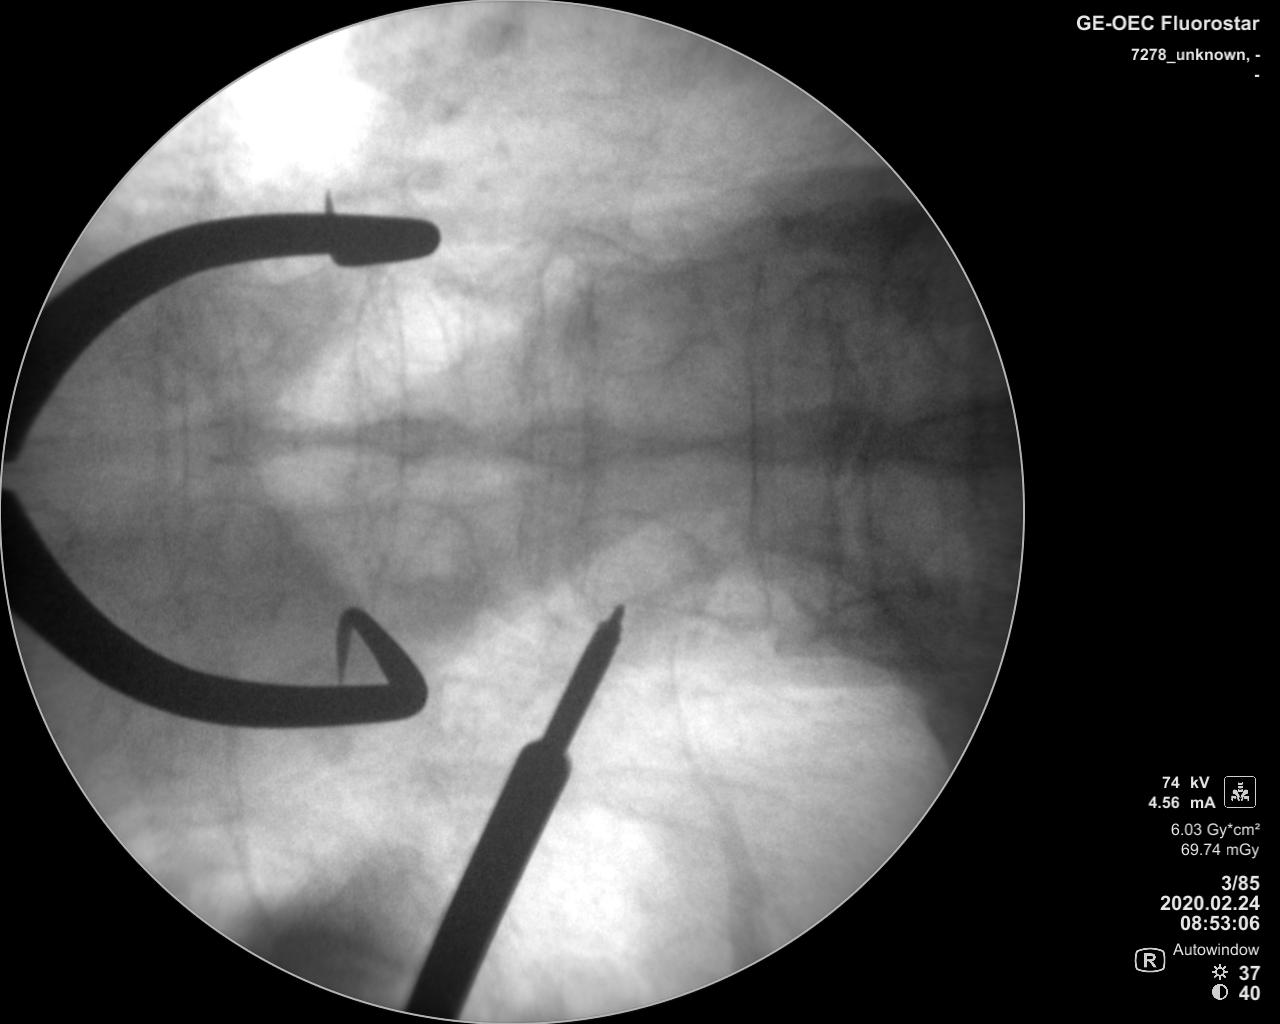eyes: (562, 261, 699, 370), (566, 511, 719, 607), (169, 496, 288, 600), (366, 498, 484, 594), (356, 272, 463, 372), (167, 293, 280, 385)
line: (347, 263, 408, 607), (514, 239, 567, 611), (736, 247, 782, 625)
nose: (692, 400, 874, 473), (497, 408, 670, 478), (324, 398, 488, 467), (159, 404, 319, 466)
